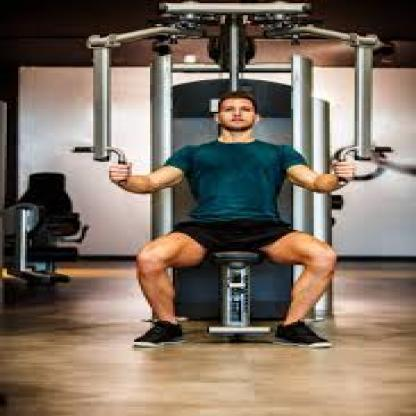chest fly machine: (50, 0, 416, 416)
